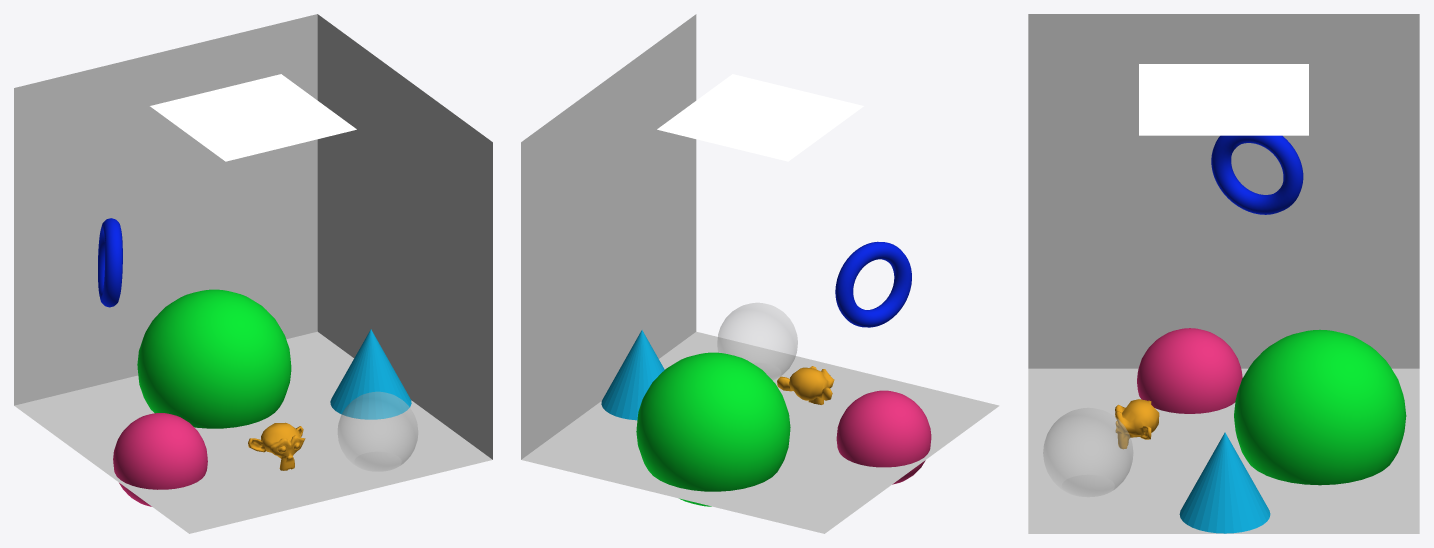
The model's file is metal.glb.
3 views of the same model, side by side, from view 1: azimuth 30°, elevation 25°; view 2: azimuth 150°, elevation 25°; view 3: azimuth 270°, elevation 25° (orthographic). The views are drawn at different scales.
Parts seen in each view (by area): view 1: Cube, Sphere, Plane, Sphere.001, Sphere.002, Cone, Torus, Suzanne; view 2: Cube, Sphere, Plane, Sphere.001, Sphere.002, Torus, Cone, Suzanne; view 3: Cube, Sphere, Plane, Sphere.001, Sphere.002, Cone, Torus, Suzanne.
Part boxes in pixels (<box>): Cube: <box>14,14,492,533</box>; Sphere: <box>137,289,291,428</box>; Plane: <box>150,74,356,161</box>; Sphere.001: <box>113,413,207,506</box>; Sphere.002: <box>338,392,417,471</box>; Cone: <box>330,329,411,419</box>; Torus: <box>98,218,122,307</box>; Suzanne: <box>248,422,305,470</box>; Cube: <box>521,14,999,533</box>; Sphere: <box>636,352,790,506</box>; Plane: <box>657,74,863,161</box>; Sphere.001: <box>836,390,931,484</box>; Sphere.002: <box>717,303,797,379</box>; Torus: <box>835,241,911,327</box>; Cone: <box>601,330,664,420</box>; Suzanne: <box>777,366,834,404</box>; Cube: <box>1028,14,1419,533</box>; Sphere: <box>1234,329,1406,485</box>; Plane: <box>1139,64,1308,135</box>; Sphere.001: <box>1137,328,1242,413</box>; Sphere.002: <box>1043,408,1133,496</box>; Cone: <box>1179,432,1270,533</box>; Torus: <box>1211,135,1303,214</box>; Suzanne: <box>1115,399,1159,449</box>.
Bounding box in the file's own units: 2.01 × 2.23 × 2.
